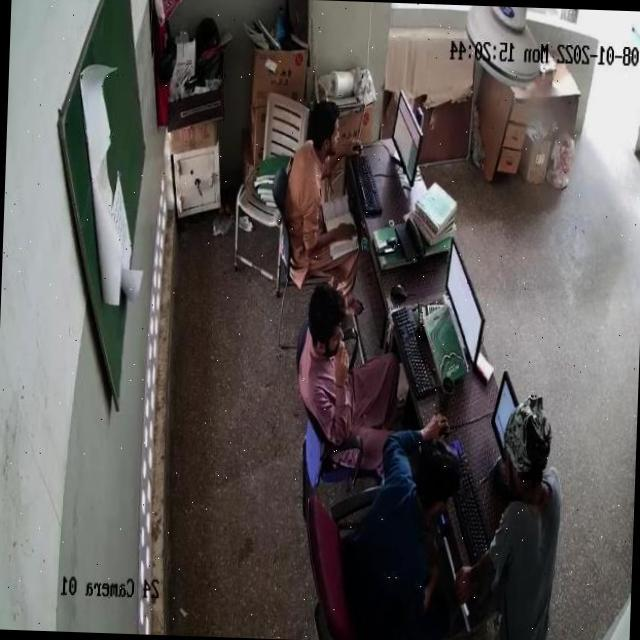person: (345, 418, 457, 623), (502, 393, 570, 640), (300, 284, 390, 442), (293, 103, 352, 270)
